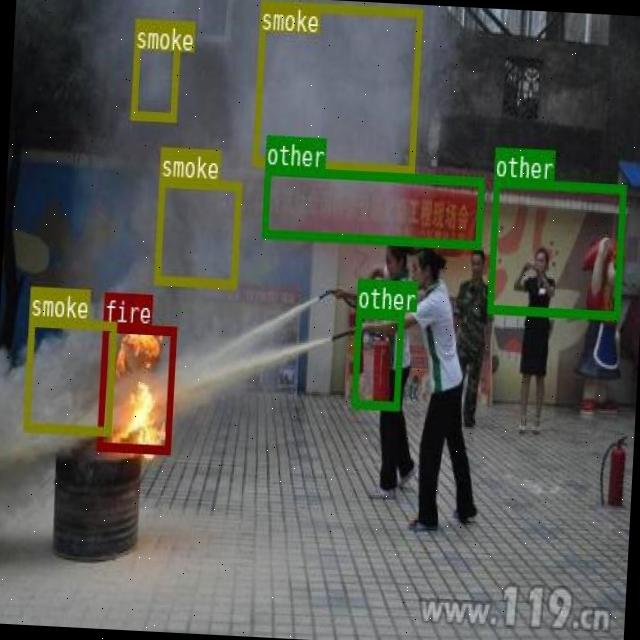fire: (96, 322, 176, 454)
smoke: (251, 0, 421, 173), (23, 317, 115, 433), (153, 178, 241, 286), (130, 18, 180, 119)
